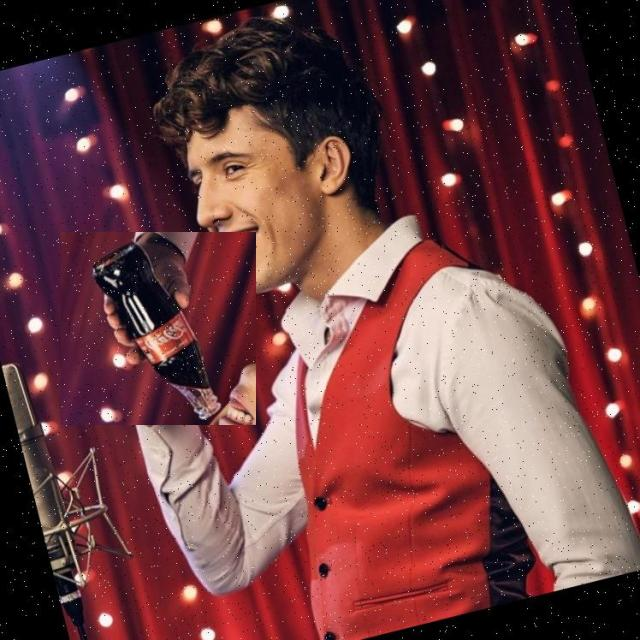coca-cola: (61, 232, 256, 425)
